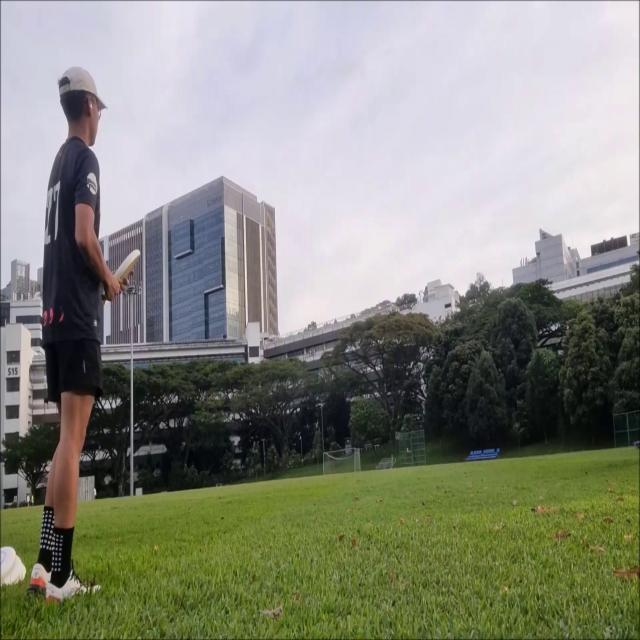disc: (100, 242, 142, 307)
